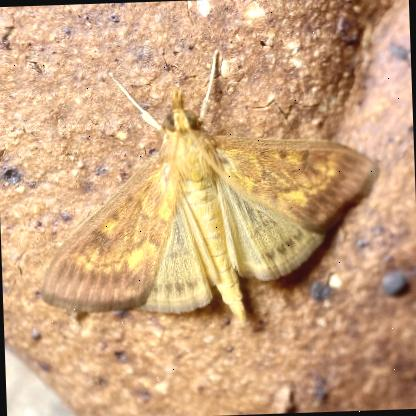Asian Corn Borer Moth: (28, 41, 387, 335)
